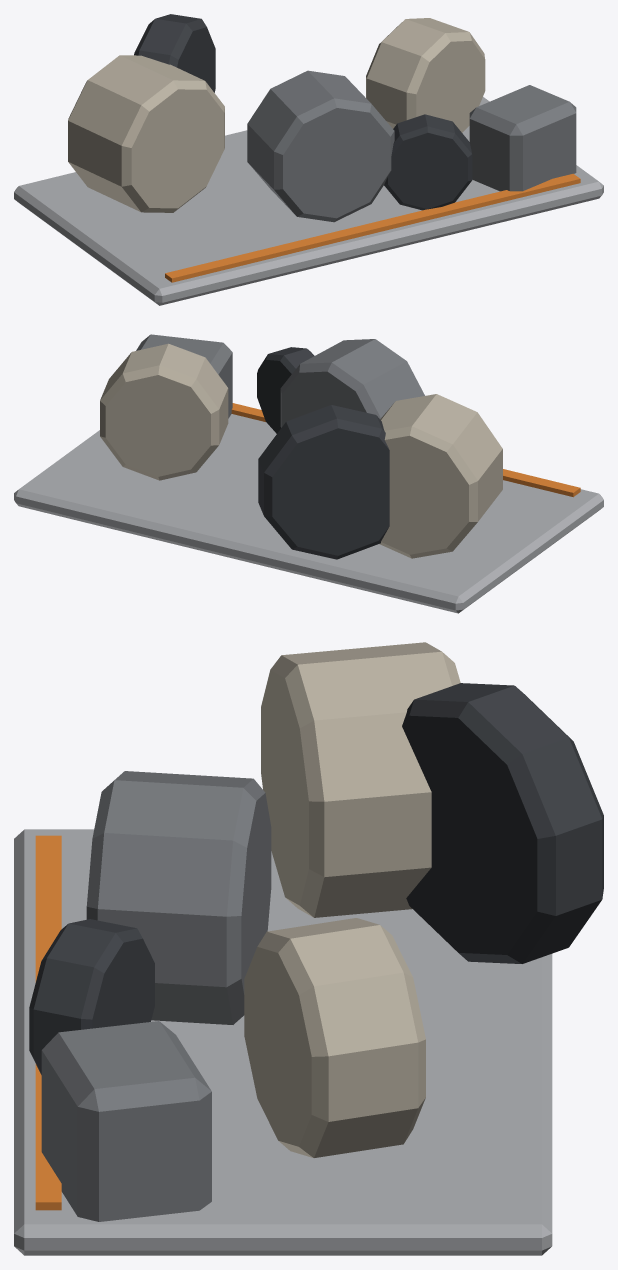
Rendered from TC_PLAYER_MechanicalArmUnbuilt_V1.gltf.
The picture shows the model from 3 angles, top to bottom: view 1: azimuth 30°, elevation 25°; view 2: azimuth 150°, elevation 25°; view 3: azimuth 270°, elevation 25°; orthographic projection. The views are drawn at different scales.
Parts seen in each view (by area): view 1: TC_ArmUnbuilt_Tray, TC_ArmUnbuilt_Segment_0, TC_ArmUnbuilt_Segment_1, TC_ArmUnbuilt_Segment_2, TC_ArmUnbuilt_PalmBlank, TC_ArmUnbuilt_Wrist, TC_ArmUnbuilt_TrayStripe, TC_ArmUnbuilt_Elbow; view 2: TC_ArmUnbuilt_Tray, TC_ArmUnbuilt_Elbow, TC_ArmUnbuilt_Segment_0, TC_ArmUnbuilt_Segment_2, TC_ArmUnbuilt_Segment_1, TC_ArmUnbuilt_Wrist, TC_ArmUnbuilt_PalmBlank, TC_ArmUnbuilt_TrayStripe; view 3: TC_ArmUnbuilt_Tray, TC_ArmUnbuilt_Elbow, TC_ArmUnbuilt_Segment_0, TC_ArmUnbuilt_Segment_2, TC_ArmUnbuilt_Segment_1, TC_ArmUnbuilt_PalmBlank, TC_ArmUnbuilt_Wrist, TC_ArmUnbuilt_TrayStripe.
Part boxes in pixels (bbox=[...]): TC_ArmUnbuilt_Tray: bbox=[14, 97, 603, 305]; TC_ArmUnbuilt_Segment_0: bbox=[68, 55, 224, 212]; TC_ArmUnbuilt_Segment_1: bbox=[247, 70, 394, 222]; TC_ArmUnbuilt_Segment_2: bbox=[366, 18, 485, 132]; TC_ArmUnbuilt_PalmBlank: bbox=[469, 85, 576, 191]; TC_ArmUnbuilt_Wrist: bbox=[384, 114, 472, 210]; TC_ArmUnbuilt_TrayStripe: bbox=[165, 173, 580, 282]; TC_ArmUnbuilt_Elbow: bbox=[134, 14, 215, 92]; TC_ArmUnbuilt_Tray: bbox=[14, 414, 603, 613]; TC_ArmUnbuilt_Elbow: bbox=[258, 405, 389, 559]; TC_ArmUnbuilt_Segment_0: bbox=[379, 394, 502, 558]; TC_ArmUnbuilt_Segment_2: bbox=[100, 343, 228, 480]; TC_ArmUnbuilt_Segment_1: bbox=[280, 339, 424, 427]; TC_ArmUnbuilt_Wrist: bbox=[257, 347, 314, 433]; TC_ArmUnbuilt_PalmBlank: bbox=[136, 334, 232, 418]; TC_ArmUnbuilt_TrayStripe: bbox=[231, 403, 580, 497]; TC_ArmUnbuilt_Tray: bbox=[14, 829, 552, 1255]; TC_ArmUnbuilt_Elbow: bbox=[402, 683, 603, 963]; TC_ArmUnbuilt_Segment_0: bbox=[261, 642, 460, 917]; TC_ArmUnbuilt_Segment_2: bbox=[244, 918, 425, 1157]; TC_ArmUnbuilt_Segment_1: bbox=[86, 771, 271, 1024]; TC_ArmUnbuilt_PalmBlank: bbox=[41, 1021, 211, 1221]; TC_ArmUnbuilt_Wrist: bbox=[29, 919, 154, 1074]; TC_ArmUnbuilt_TrayStripe: bbox=[35, 835, 61, 1210].
Size of the model in its own units: 1.1 by 0.37 by 0.6795.
